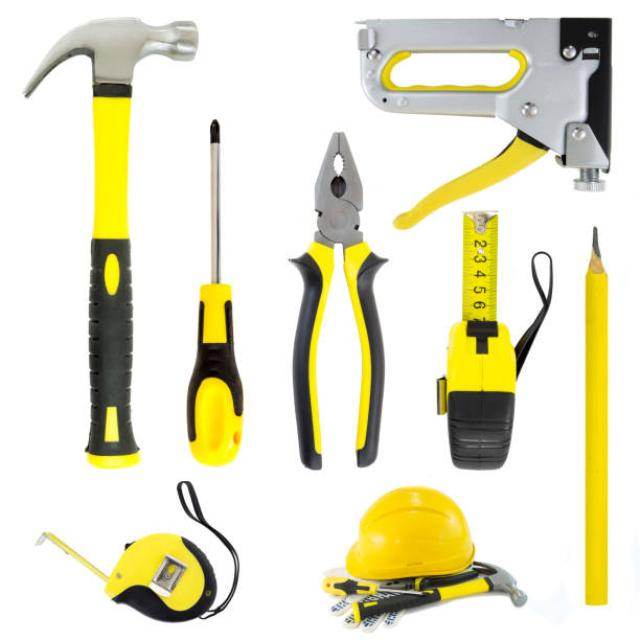Screwdriver: (188, 120, 244, 466), (322, 576, 423, 596)
